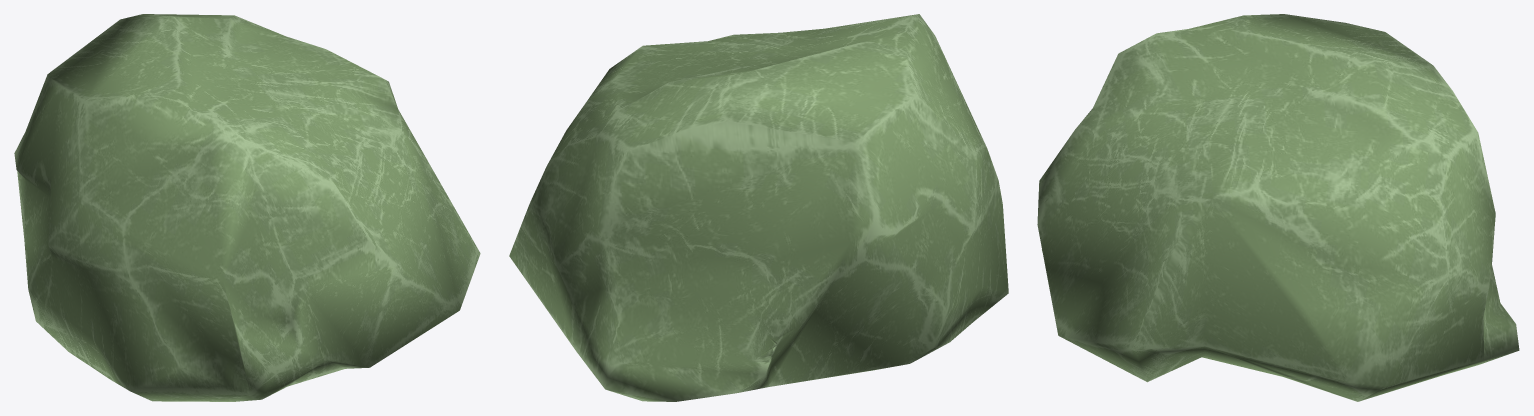
Rendered from sand_stone_model.fbx.
3 renders of one model, left to right at view 1: azimuth 30°, elevation 25°; view 2: azimuth 150°, elevation 25°; view 3: azimuth 270°, elevation 25°, orthographic. The views are drawn at different scales.
Parts seen in each view (by area): view 1: defaultMaterial; view 2: defaultMaterial; view 3: defaultMaterial.
Boxes of the visible parts, <box> form: defaultMaterial: <box>14,14,480,401</box>; defaultMaterial: <box>509,14,1008,401</box>; defaultMaterial: <box>1037,14,1519,401</box>.
Bounding box in the file's own units: 1.92 × 2 × 1.32.
1 material, 1 textured.
